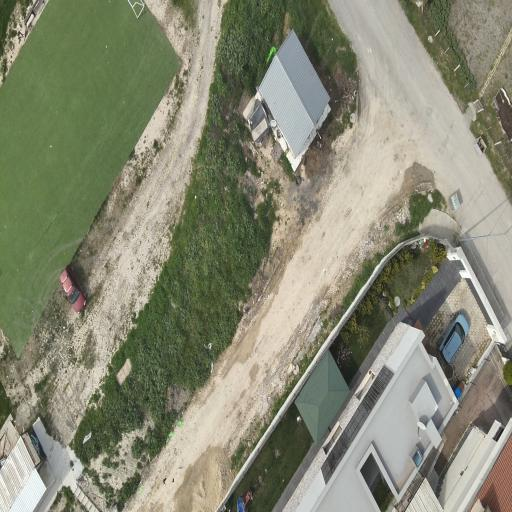car: (439, 313, 469, 364), (60, 265, 85, 312)
